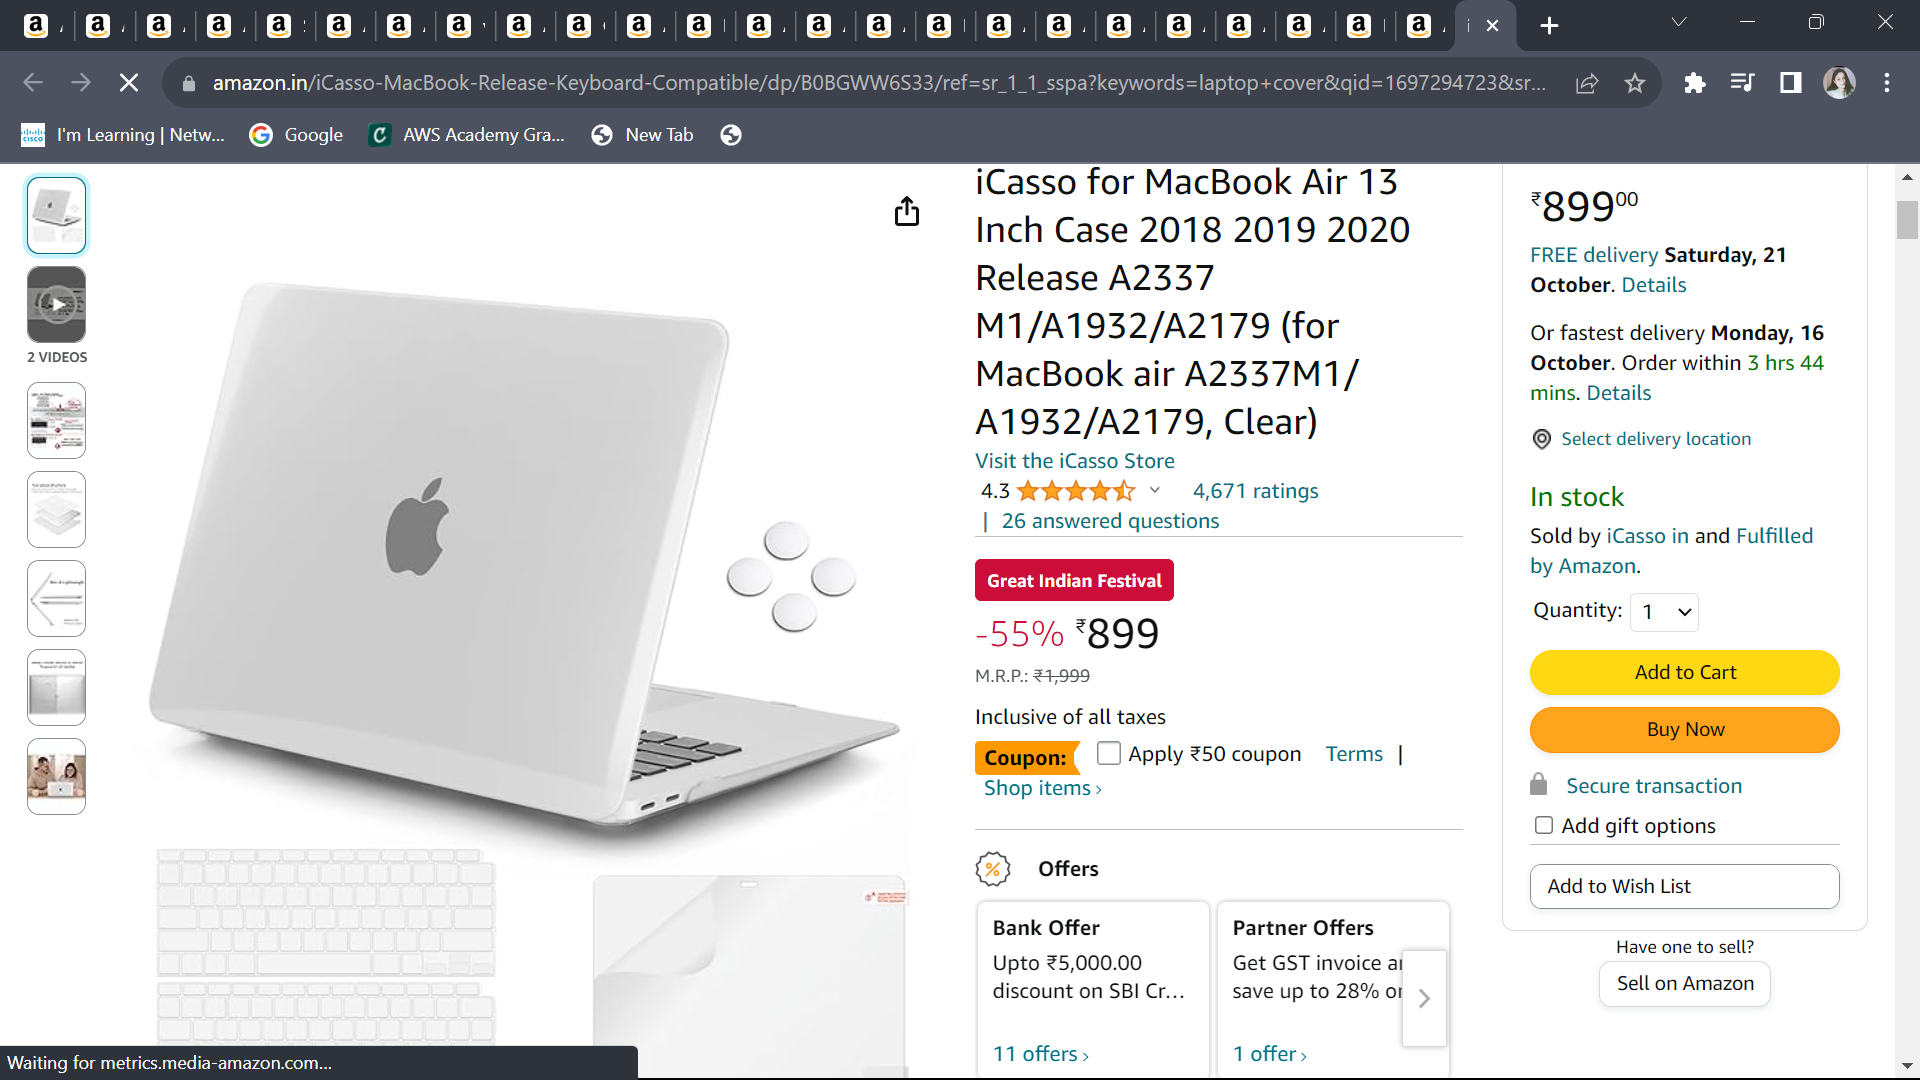Image: (158, 227, 895, 1046)
Paragraph: (968, 170, 1433, 454), (961, 848, 1443, 1080), (952, 702, 1439, 812), (1532, 640, 1875, 761), (1514, 477, 1845, 585), (964, 460, 1362, 543), (1505, 323, 1882, 400), (1502, 245, 1840, 319), (1514, 777, 1804, 848), (961, 612, 1221, 687), (1516, 411, 1797, 472), (1606, 931, 1795, 1004), (1514, 170, 1705, 239), (1509, 866, 1785, 907), (1514, 588, 1684, 636)
